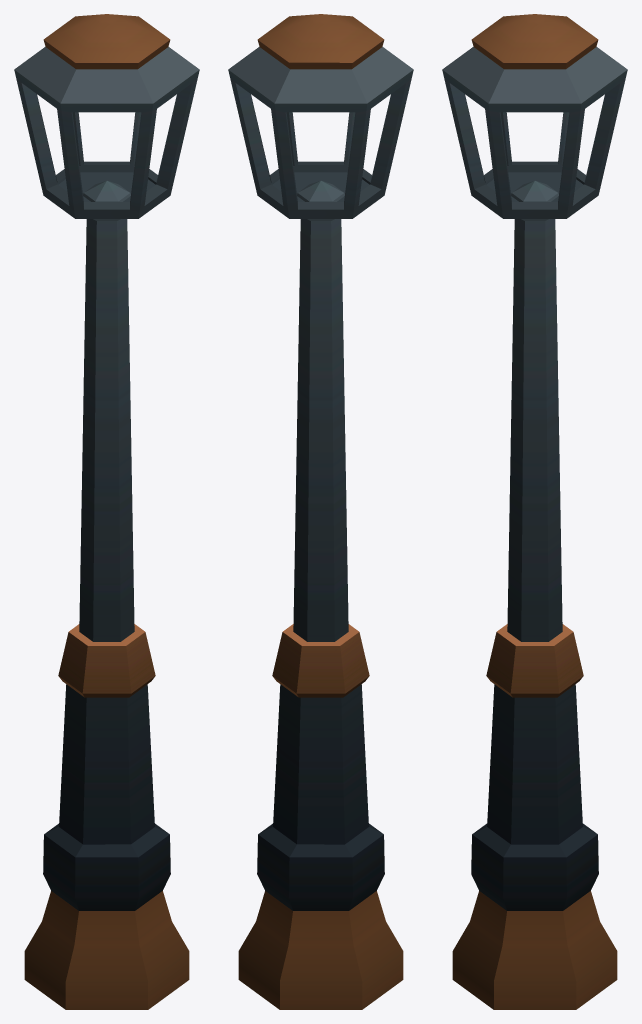
Rendered from StreetLantern1Body.fbx.
3 views of the same model, side by side, from view 1: azimuth 30°, elevation 25°; view 2: azimuth 150°, elevation 25°; view 3: azimuth 270°, elevation 25° (orthographic).
Visible parts, largest first — view 1: StreetLantern.001; view 2: StreetLantern.001; view 3: StreetLantern.001.
Boxes of the visible parts, <box> form: StreetLantern.001: <box>14,14,199,1009</box>; StreetLantern.001: <box>228,14,413,1009</box>; StreetLantern.001: <box>442,14,627,1009</box>.
Bounding box in the file's own units: 187 × 1242 × 216.
